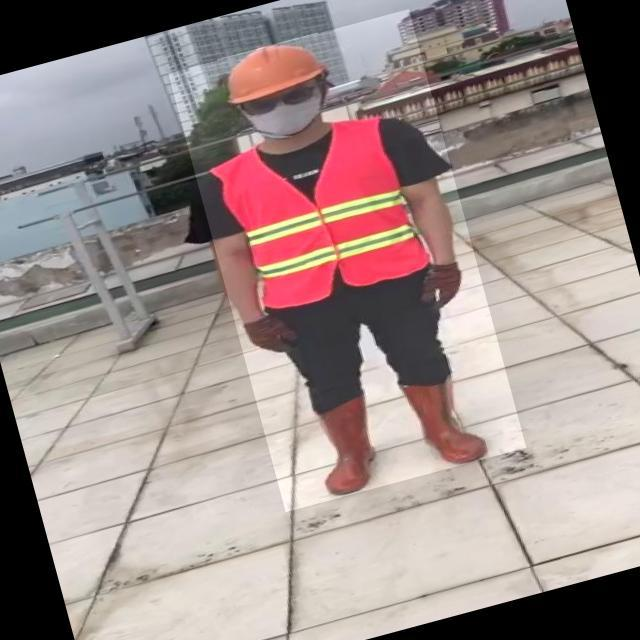Gloves: (240, 308, 302, 360), (414, 262, 470, 315)
Helmet: (218, 32, 332, 109)
Human: (168, 9, 526, 512)
Safety Boot: (397, 366, 491, 475), (302, 396, 387, 499)
Safety Vest: (211, 112, 428, 315)
